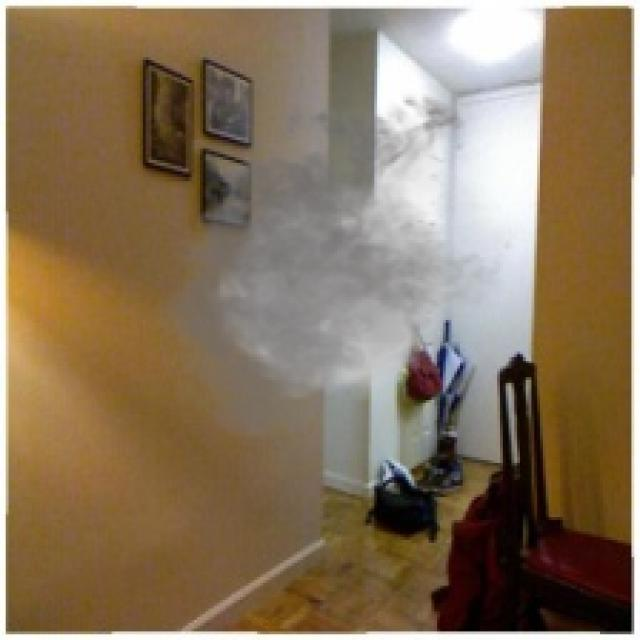Smoke: (145, 82, 526, 452)
